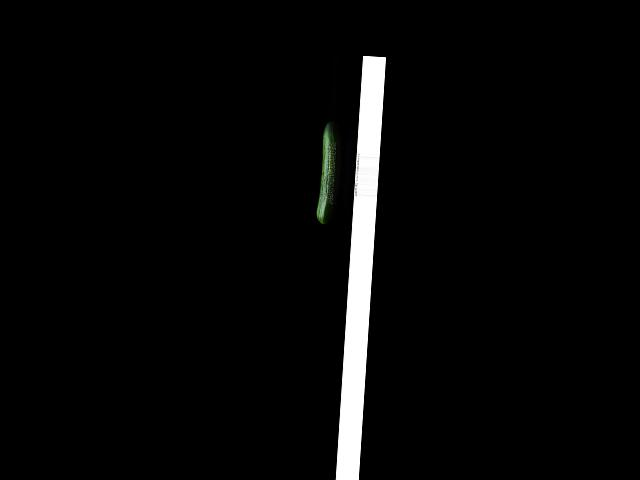cucumber: (316, 121, 338, 225)
